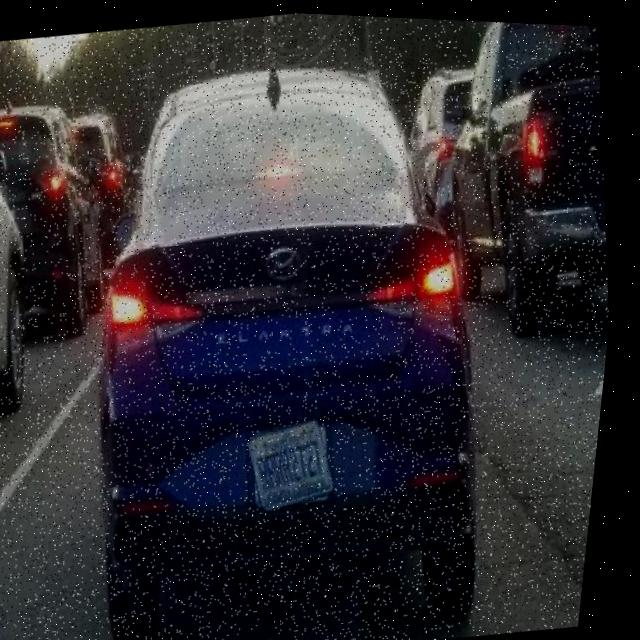LicensePlate: (255, 415, 346, 512)
